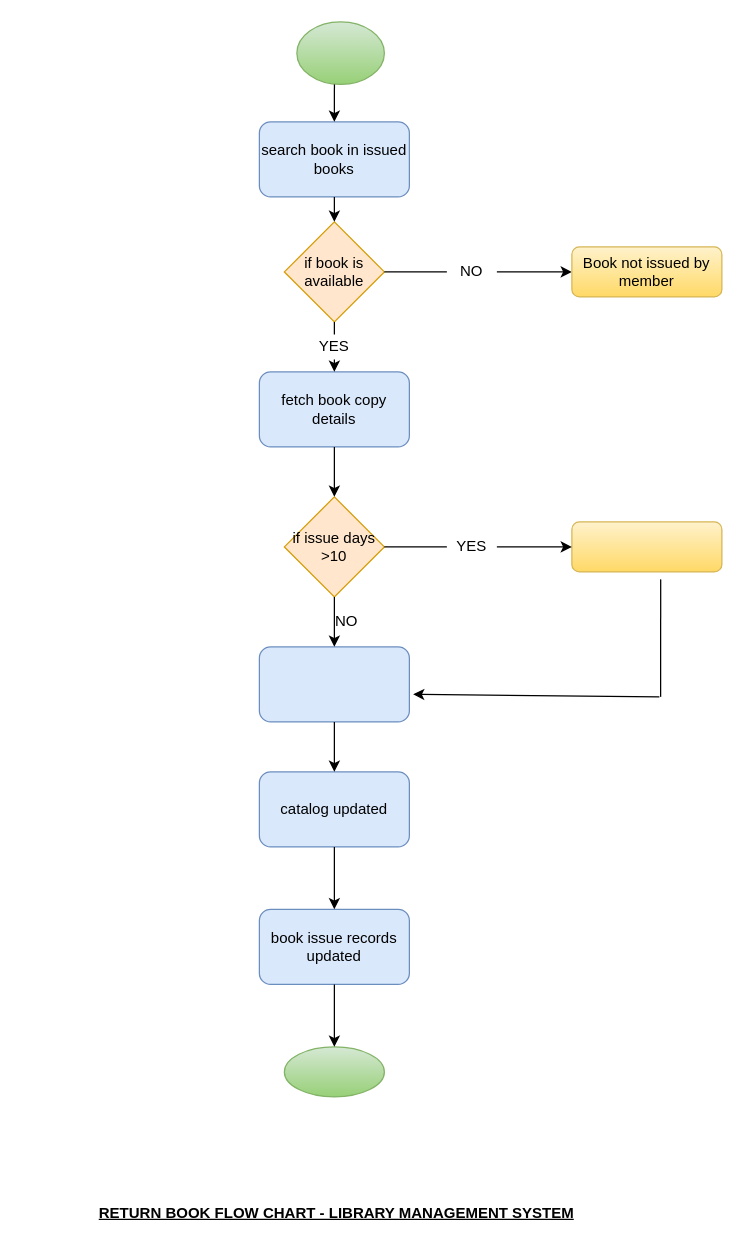
The diagram is 744 pixels wide and 1248 high, and some of its shapes have lost their labels. Here are the shapes that lost their labels. From the top down, the box of each, then its label:
(296, 21, 384, 84): START
(571, 521, 722, 572): calculate bill
(258, 646, 409, 722): book returned
(283, 1046, 384, 1097): STOP
